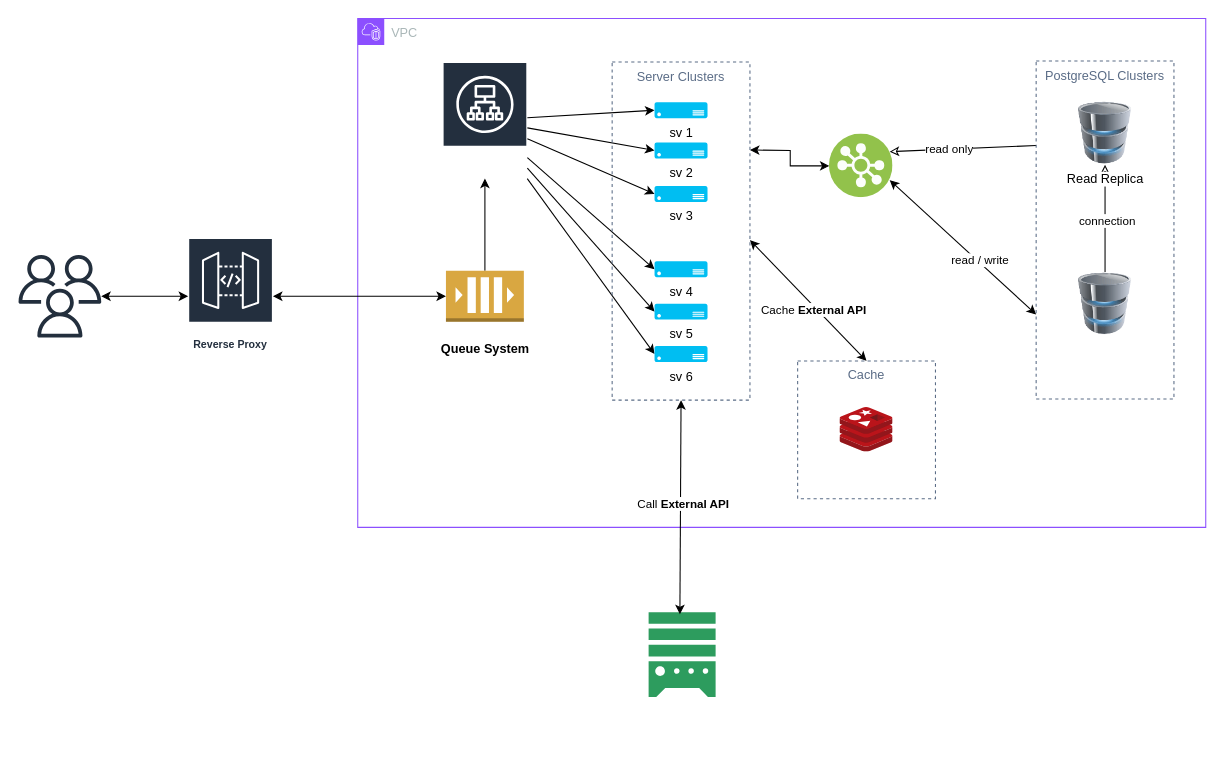
Some shapes in this 1224 by 763 pixel diagram are drawn without their labels. Each missing label, with the centre of its shape:
"clients" goes at [59,295].
"External API" goes at [681,654].
"Load Balancer" goes at [484,120].
"Pgpool-II" goes at [861,165].
"Primary Database" goes at [1104,303].
"Redis" goes at [866,429].
